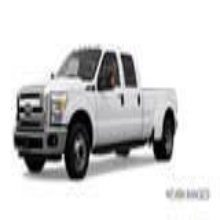no damage: (12, 45, 178, 178)
